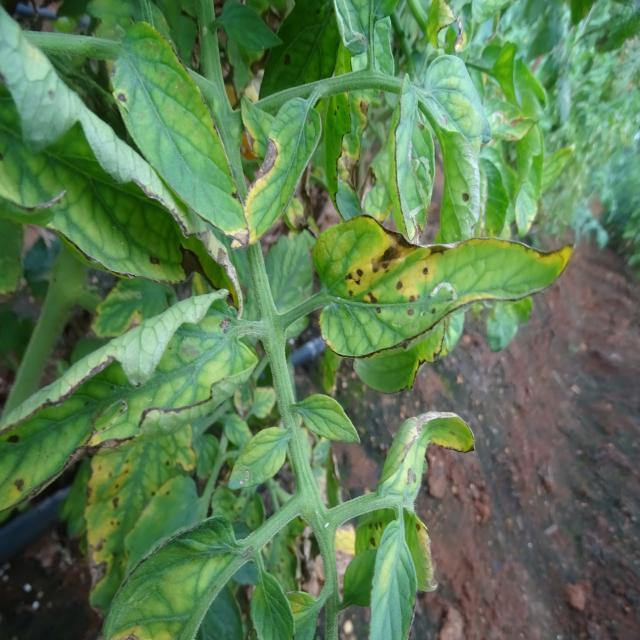Tomato mosaic virus leaf: (314, 213, 578, 361), (108, 25, 248, 243), (137, 241, 246, 355), (248, 84, 312, 234), (441, 148, 488, 238)
